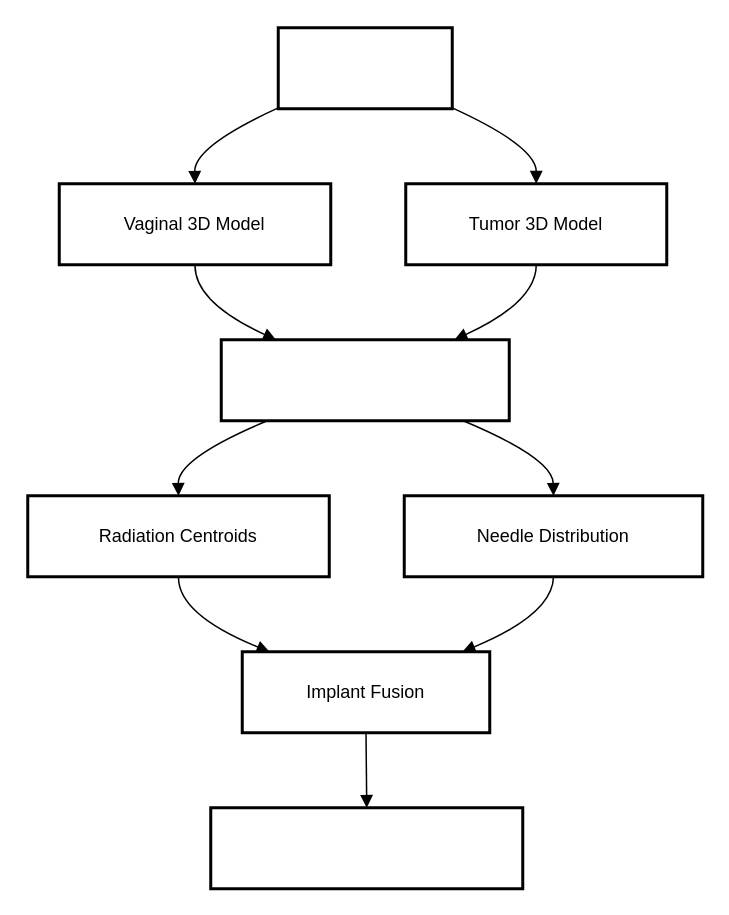
The diagram is 729 pixels wide and 915 high, and some of its shapes have lost their labels. Each missing label, with the centre of its shape:
3D Printable Implant: the point at 366,848
AI Planning Engine: the point at 364,380
CT Scan: the point at 364,68
